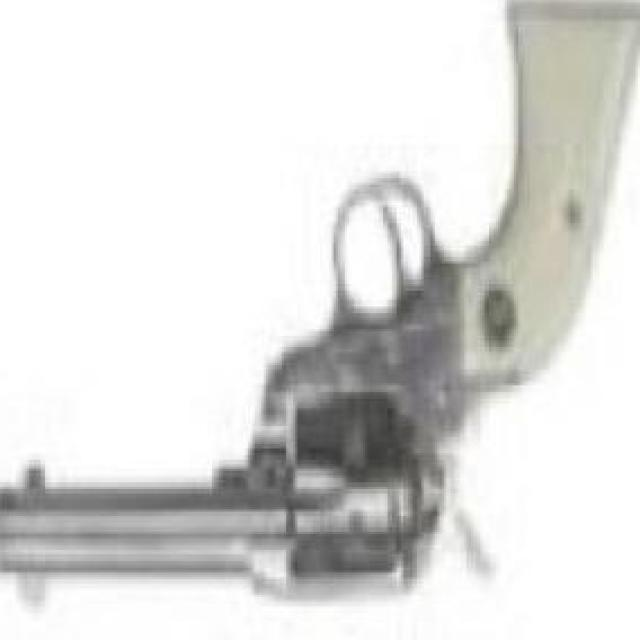pistol: (0, 5, 640, 606)
